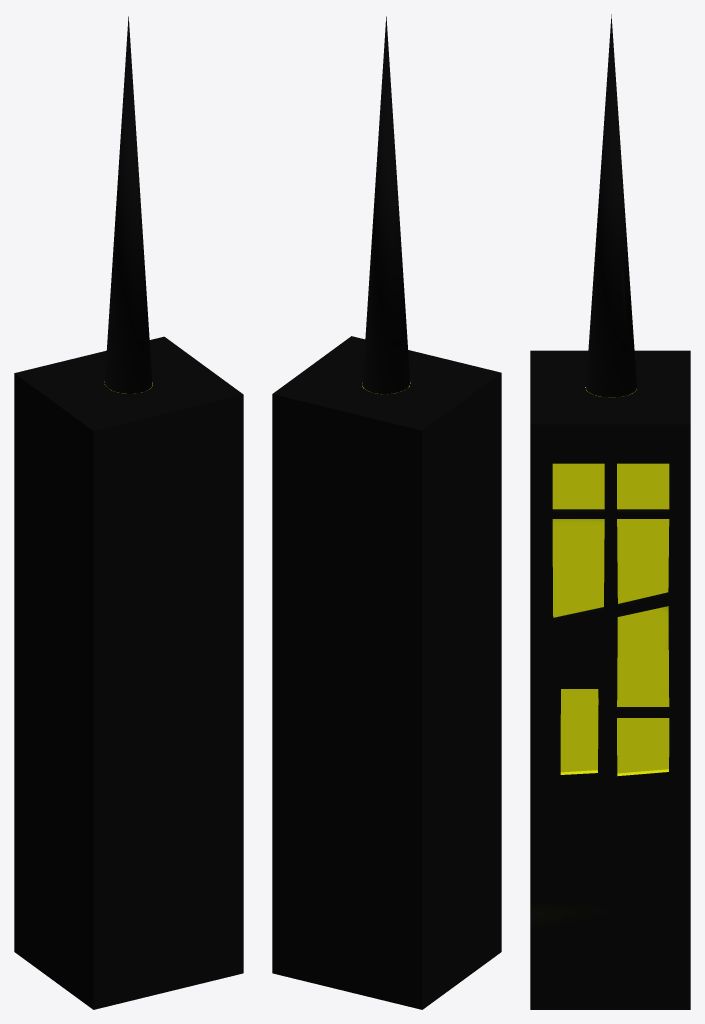
The model's file is hbuild2.glb.
3 renders of one model, left to right at view 1: azimuth 30°, elevation 25°; view 2: azimuth 150°, elevation 25°; view 3: azimuth 270°, elevation 25°, orthographic.
Visible parts, largest first — view 1: Cube.008; view 2: Cube.008; view 3: Cube.008.
Part boxes in pixels (x1,y1,x2,y2): Cube.008: (14, 16, 243, 1009); Cube.008: (272, 16, 501, 1009); Cube.008: (530, 14, 690, 1009).
Bounding box in the file's own units: 4.28 × 25.86 × 3.91.
Materials: 1 (1 with a texture image).
